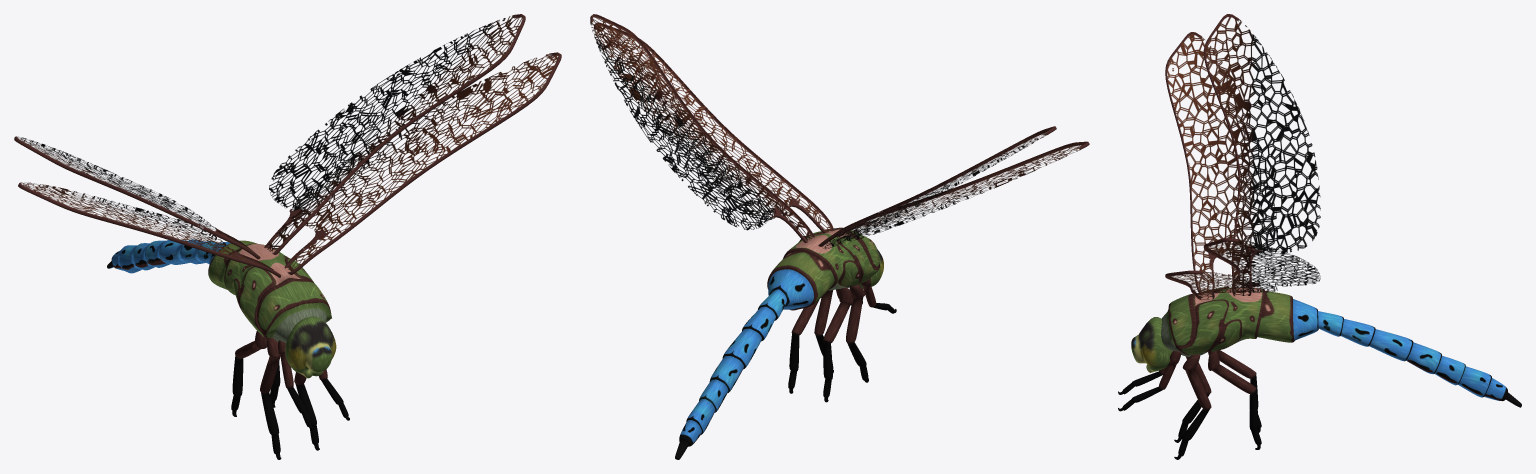
The model's file is Zurcidora Migratoria Comun.glb.
3 renders of one model, left to right at view 1: azimuth 30°, elevation 25°; view 2: azimuth 150°, elevation 25°; view 3: azimuth 270°, elevation 25°, orthographic. The views are drawn at different scales.
Parts seen in each view (by area): view 1: Zurcidora Migratoria Común; view 2: Zurcidora Migratoria Común; view 3: Zurcidora Migratoria Común.
Part boxes in pixels (<box>): Zurcidora Migratoria Común: <box>14,14,561,459</box>; Zurcidora Migratoria Común: <box>590,14,1089,459</box>; Zurcidora Migratoria Común: <box>1118,14,1521,459</box>.
Bounding box in the file's own units: 9.11 × 5.75 × 6.48.
Materials: 2 (2 with a texture image).
